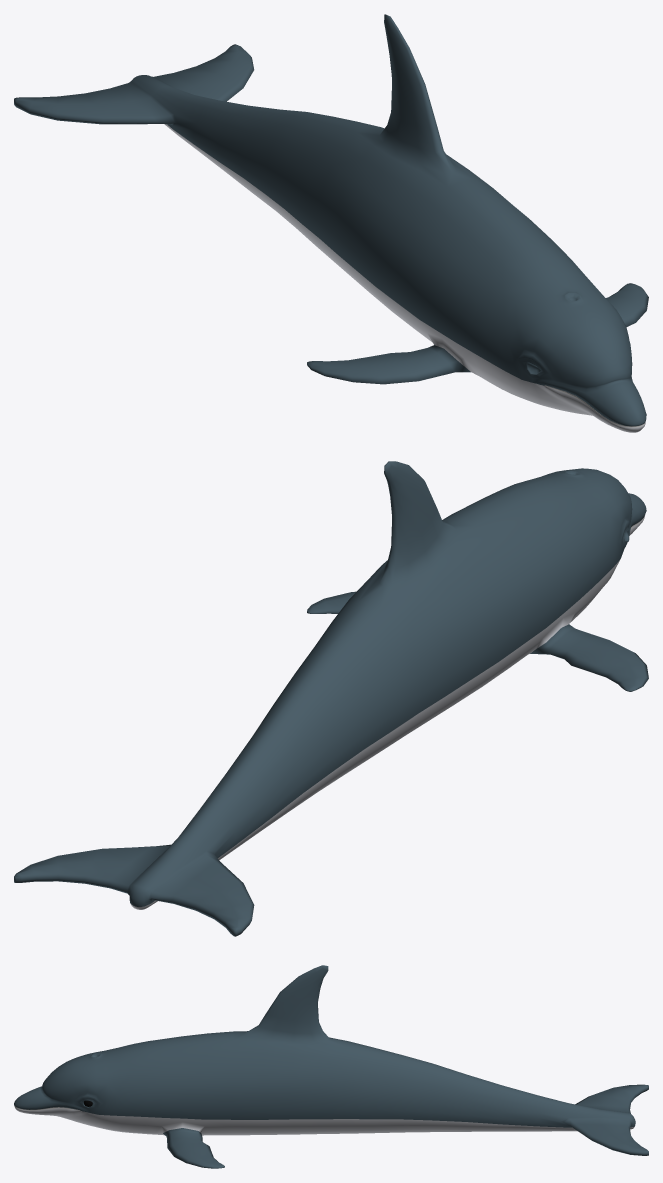
The model's file is dolphin.obj.
The picture shows the model from 3 angles, top to bottom: view 1: azimuth 30°, elevation 25°; view 2: azimuth 150°, elevation 25°; view 3: azimuth 270°, elevation 25°; orthographic projection. The views are drawn at different scales.
Visible parts, largest first — view 1: dolphin; view 2: dolphin; view 3: dolphin.
Part boxes in pixels (x1,y1,x2,y2): dolphin: (14, 14, 648, 432); dolphin: (14, 461, 648, 936); dolphin: (14, 965, 648, 1168).
Bounding box in the file's own units: 0.9751 × 0.7552 × 2.62.
